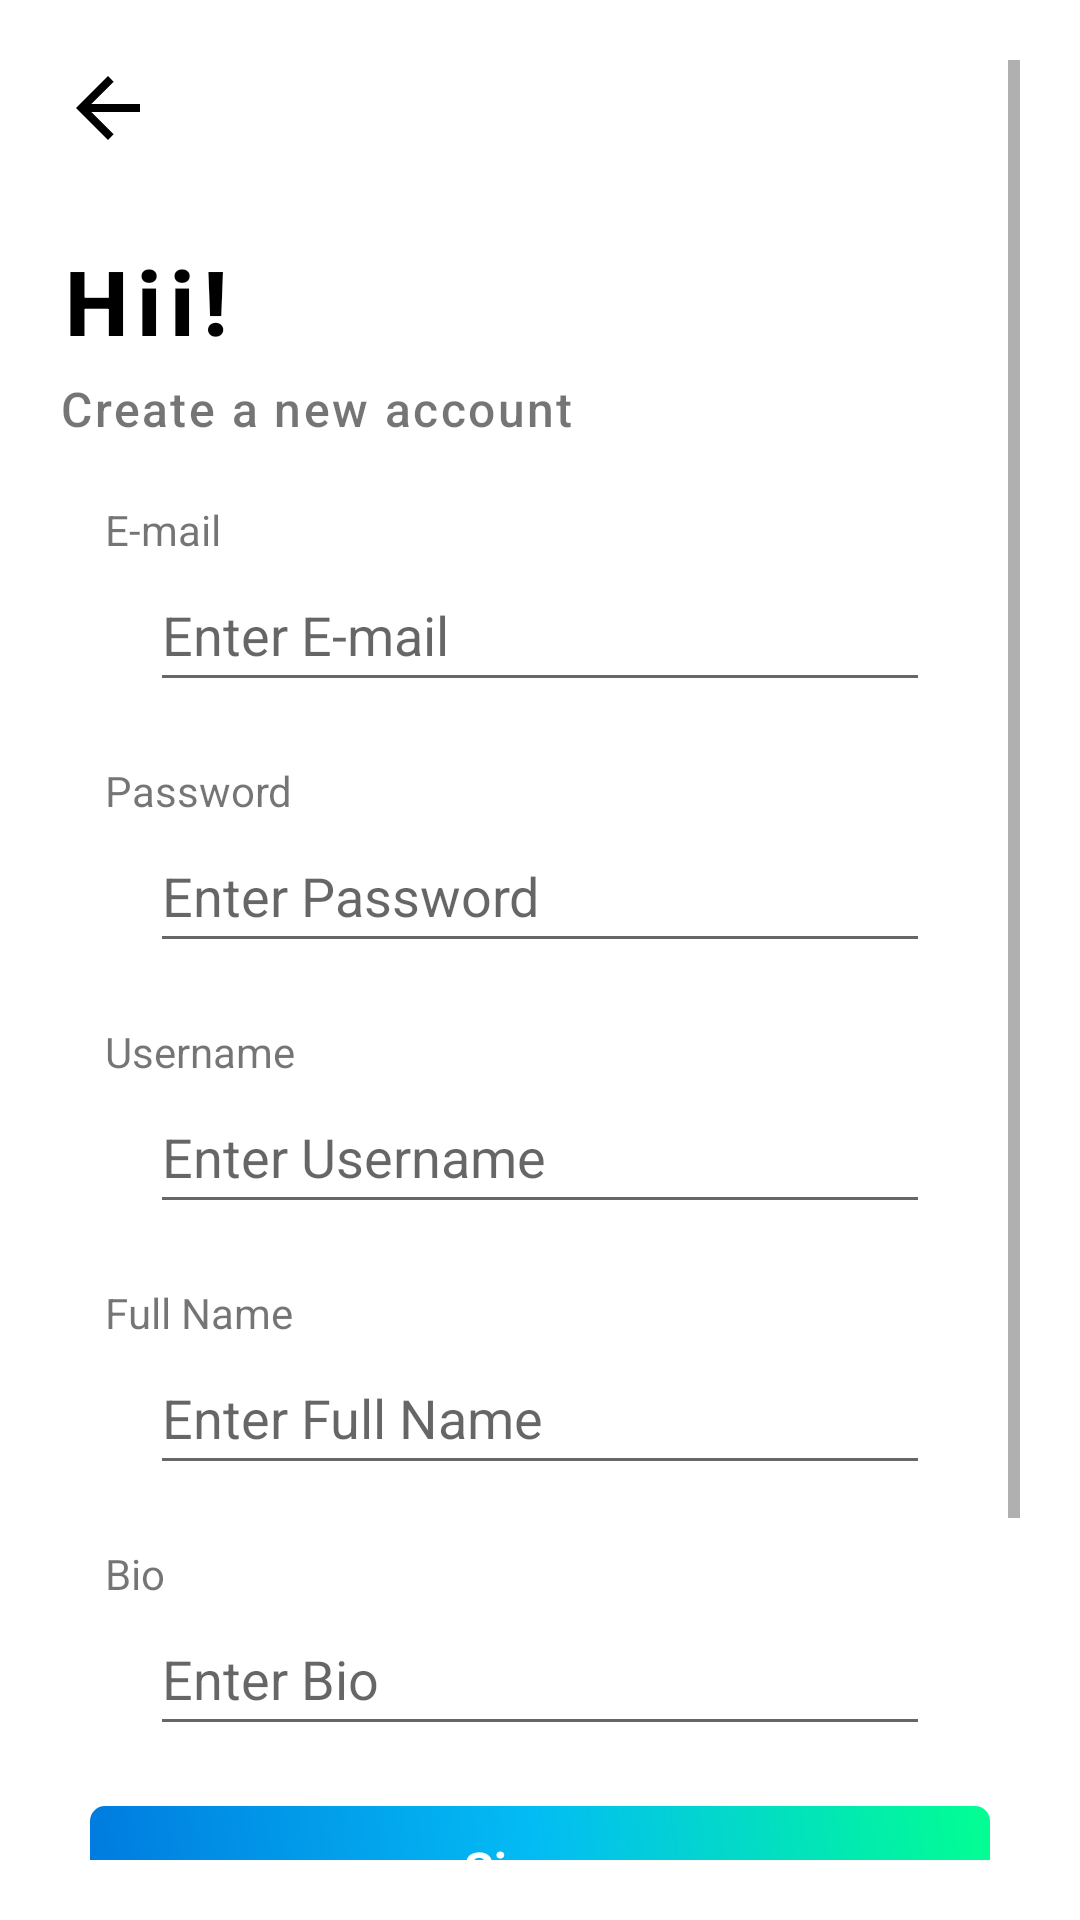

Where icons sit on this 1080px x 1920px app screen, as (x1, y1, x2, y2):
back arrow: (76, 76, 140, 140)
